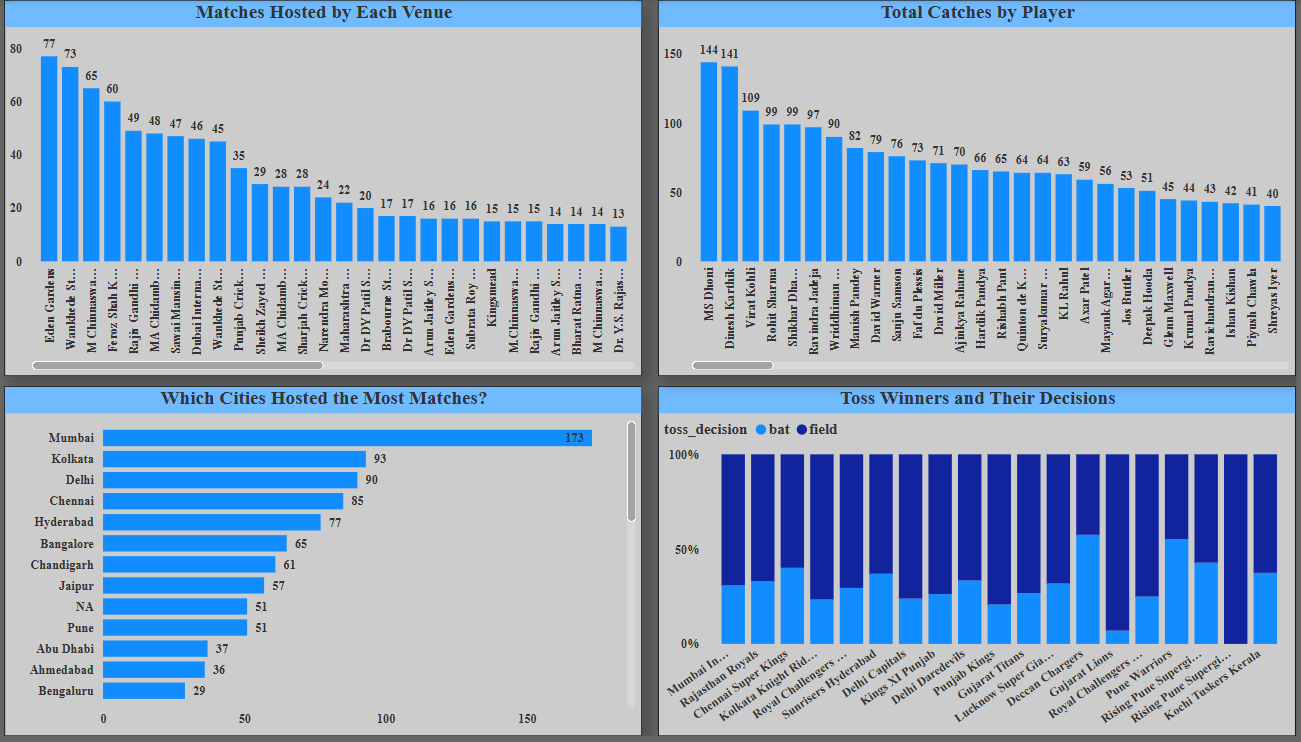

What the dashboard file says about the page in this screenshot:
{"tool":"powerbi","page":{"name":"Venue Analysis","canvas":[1280,720],"ordinal":4},"visuals":[{"type":"columnChart","title":"Matches Hosted by Each Venue","fields":{"Category":["matches.venue"],"Y":["matches.Total Matches"]},"box":[16,0,624,368],"z":0},{"type":"barChart","title":"Which Cities Hosted the Most Matches?","fields":{"Category":["matches.city"],"Y":["matches.Total Matches"]},"box":[16,378,624,342],"z":1000},{"type":"hundredPercentStackedColumnChart","title":"Toss Winners and Their Decisions","fields":{"Category":["matches.toss_winner"],"Y":["Sum(matches.id)"],"Series":["matches.toss_decision"]},"box":[656,378,624,342],"z":3000},{"type":"columnChart","title":"Total Catches by Player","fields":{"Category":["cricket_data.Player_Name"],"Y":["Sum(cricket_data.Catches_Taken)"]},"box":[656,0,624,368],"z":3001}]}

Visuals, with their boxes in screenshot pixels (x1, y1, x2, y2), scaled from the page's 1280x720 canvas onto the 1301x742 screenshot:
"Matches Hosted by Each Venue" columnChart: (x1=16, y1=0, x2=650, y2=379)
"Which Cities Hosted the Most Matches?" barChart: (x1=16, y1=390, x2=650, y2=741)
"Toss Winners and Their Decisions" hundredPercentStackedColumnChart: (x1=667, y1=390, x2=1300, y2=741)
"Total Catches by Player" columnChart: (x1=667, y1=0, x2=1300, y2=379)
